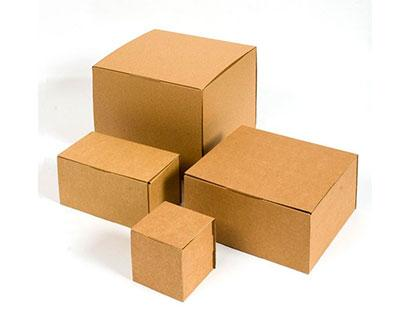plastic: (168, 114, 368, 281), (77, 21, 267, 188), (46, 127, 189, 235), (115, 195, 227, 306)
